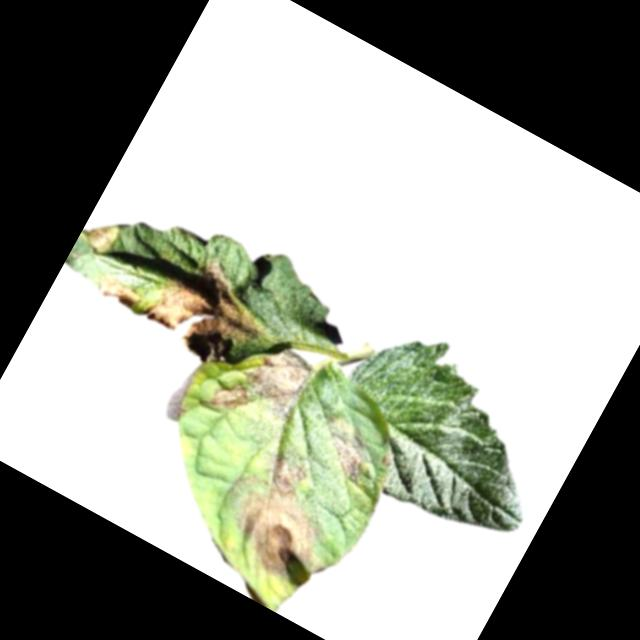Late_blight: (204, 441, 365, 597), (139, 243, 284, 381), (232, 336, 320, 427), (304, 407, 386, 487), (74, 209, 124, 260), (91, 269, 145, 316), (205, 374, 252, 420)
